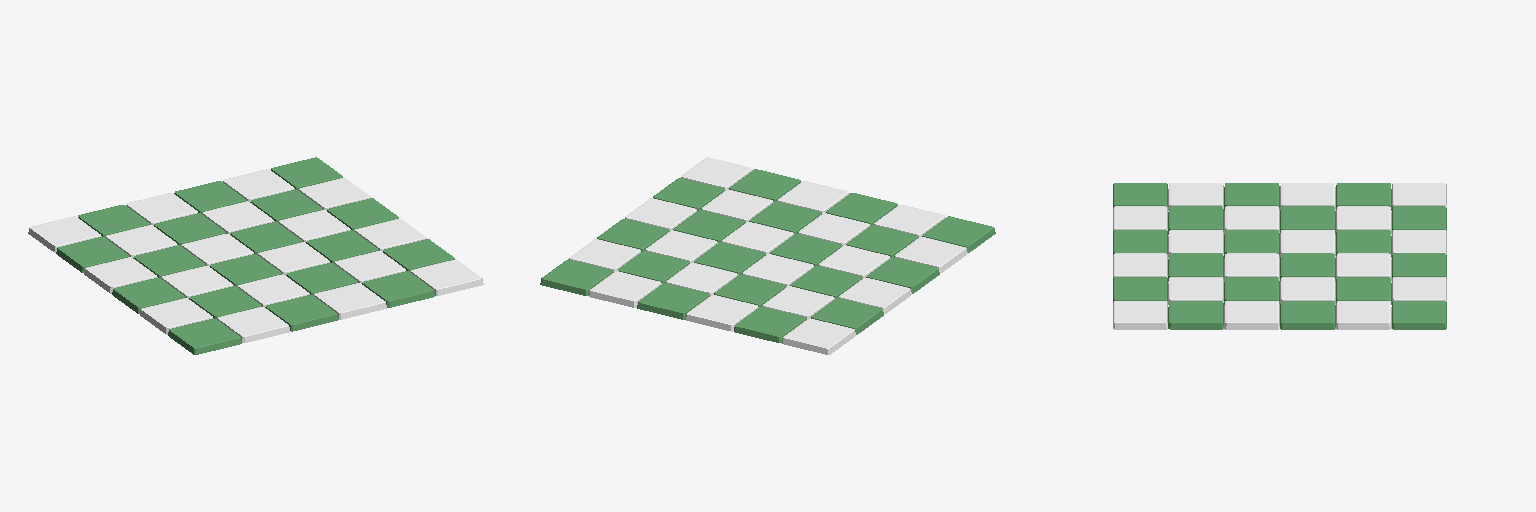
The model's file is green-floor.obj.
3 renders of one model, left to right at view 1: azimuth 30°, elevation 25°; view 2: azimuth 150°, elevation 25°; view 3: azimuth 270°, elevation 25°, orthographic.
Visible parts, largest first — view 1: green_floor:FloorFBXASC032tile; view 2: green_floor:FloorFBXASC032tile; view 3: green_floor:FloorFBXASC032tile.
Boxes of the visible parts, <box> form: green_floor:FloorFBXASC032tile: <box>28,157,483,354</box>; green_floor:FloorFBXASC032tile: <box>540,157,995,354</box>; green_floor:FloorFBXASC032tile: <box>1113,183,1446,329</box>.
Bounding box in the file's own units: 720 × 15 × 720.